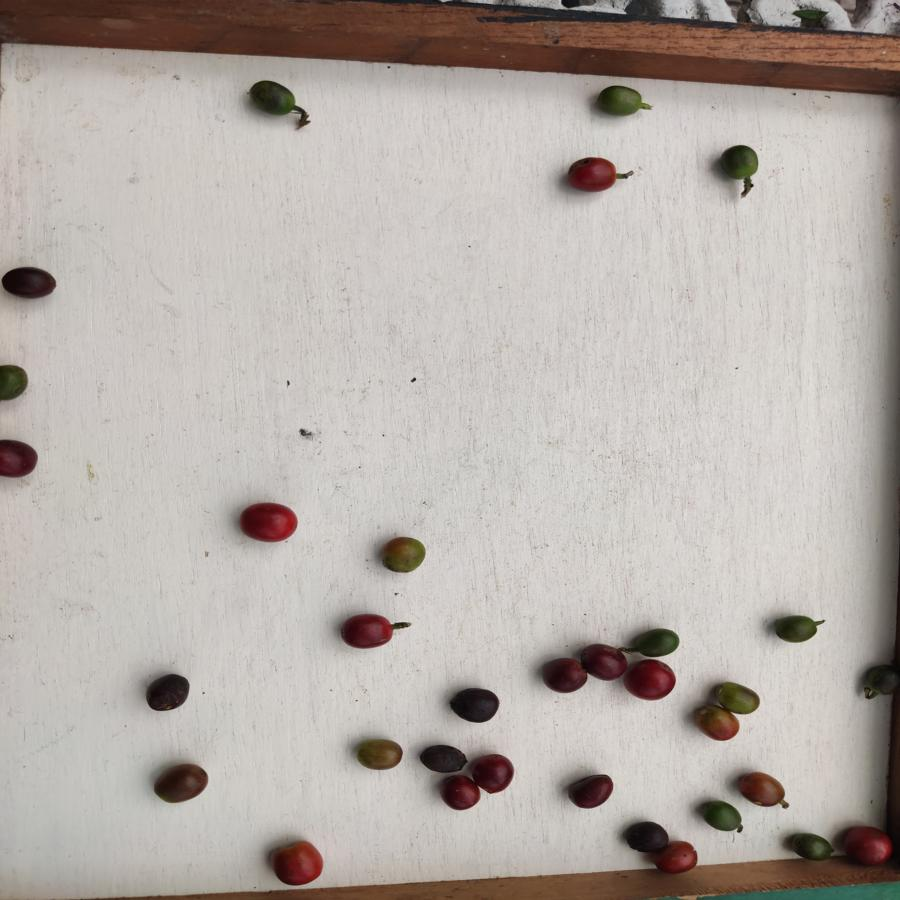Inmaduro: (247, 77, 298, 122), (591, 83, 645, 121), (718, 141, 762, 183), (630, 625, 682, 658), (771, 613, 820, 648), (863, 659, 899, 701), (788, 830, 835, 859), (699, 800, 740, 833), (1, 364, 32, 406)
Maduro: (235, 499, 299, 547), (270, 839, 325, 887), (624, 656, 676, 703), (840, 823, 892, 867), (338, 614, 398, 651), (565, 154, 618, 195), (660, 840, 699, 877)
Pinton: (152, 763, 210, 804), (711, 680, 765, 718), (738, 769, 786, 811), (693, 703, 742, 744), (380, 535, 429, 573), (356, 738, 402, 772)
Sobremaduro: (1, 259, 58, 304), (145, 673, 192, 713), (450, 688, 502, 724), (538, 656, 584, 696), (580, 641, 627, 680), (566, 773, 618, 808), (1, 436, 42, 478), (472, 752, 515, 792), (418, 743, 469, 776), (439, 773, 480, 811), (621, 822, 669, 853)
